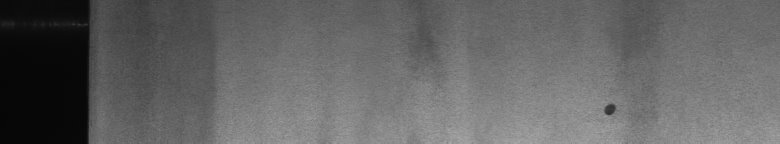fi: (599, 94, 624, 124)
